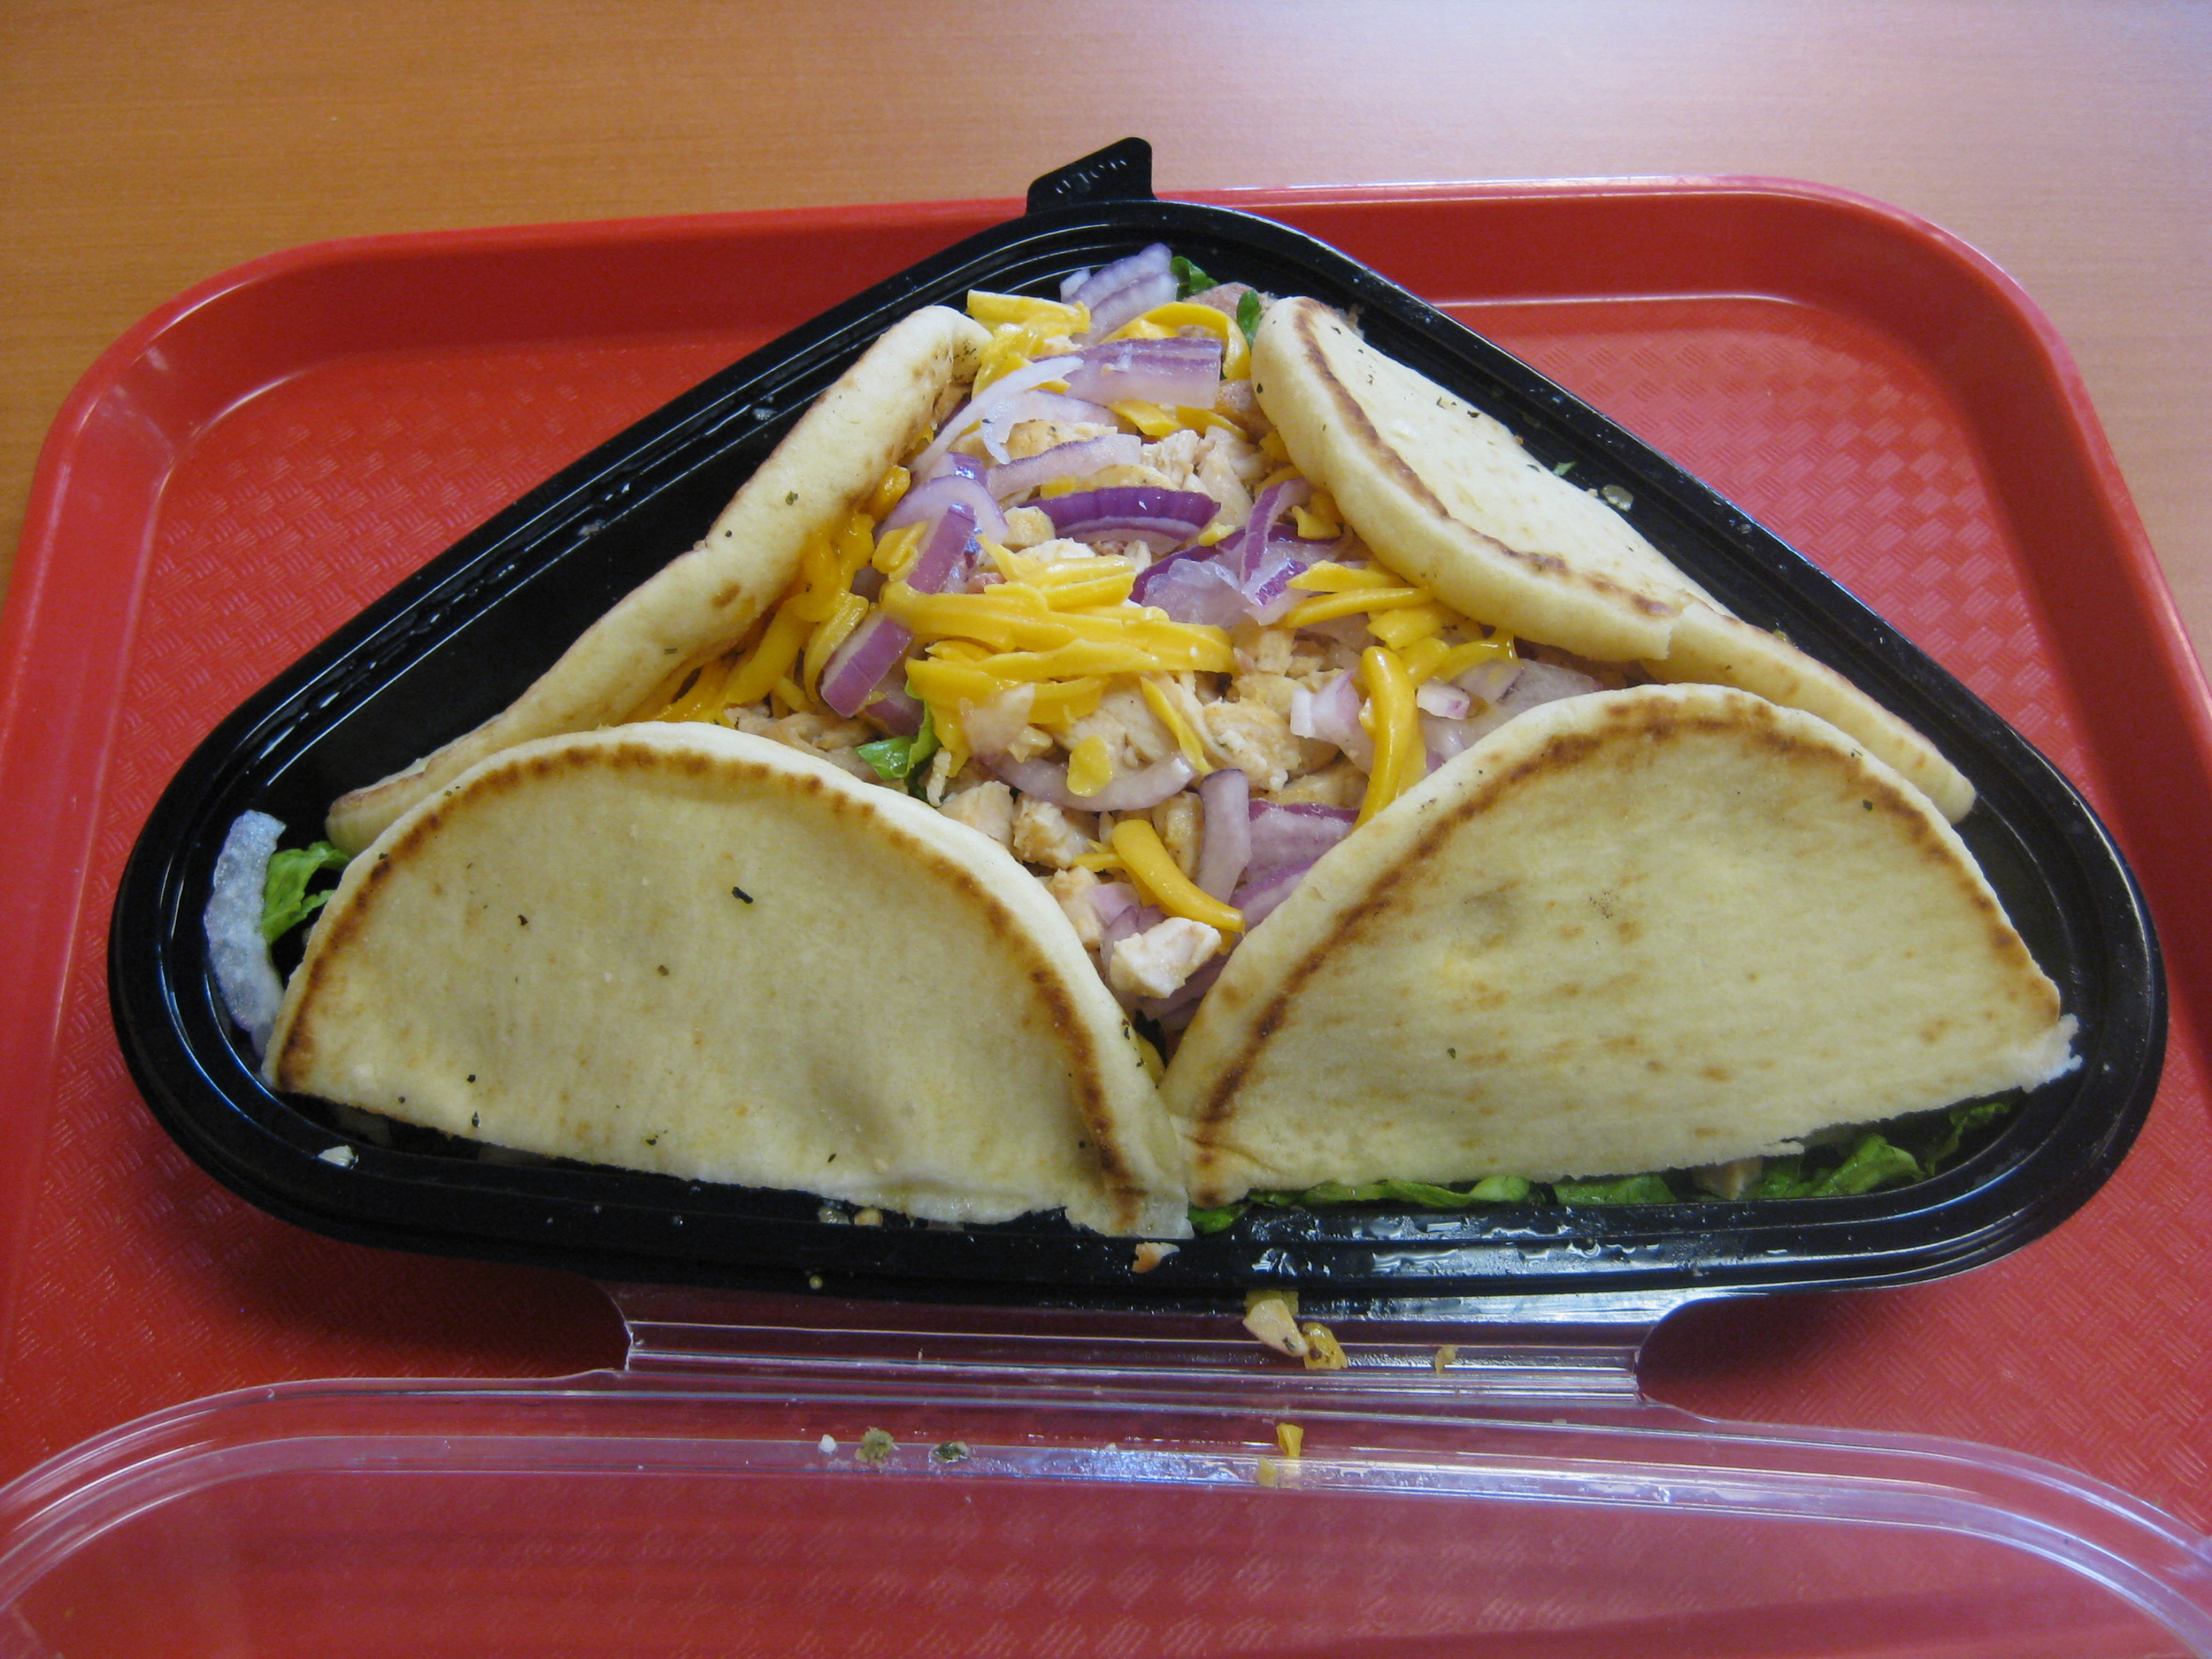burrito: (238, 195, 2086, 1318)
